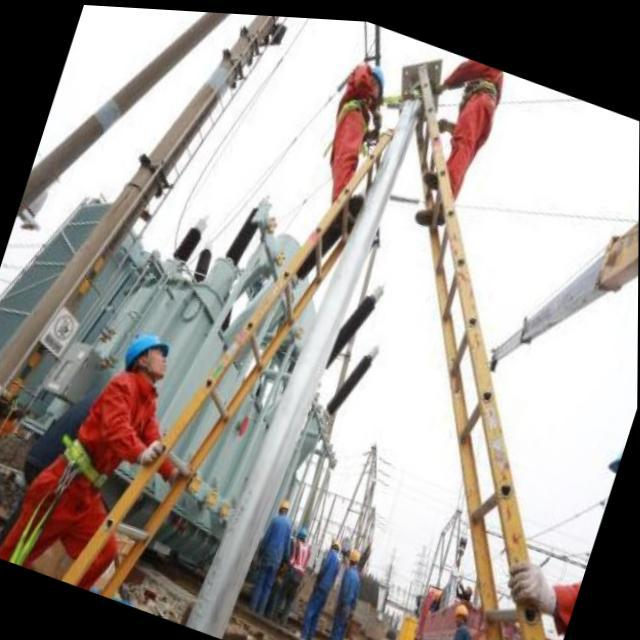belt: (2, 421, 114, 574)
